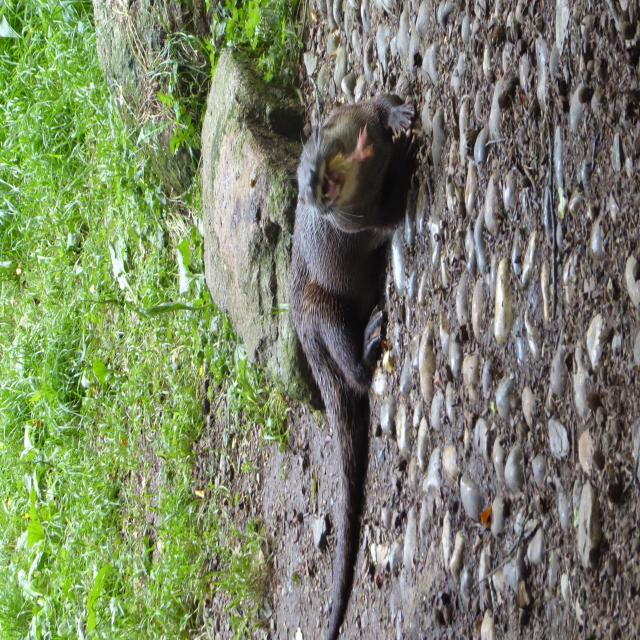otter: (1, 431, 365, 578)
